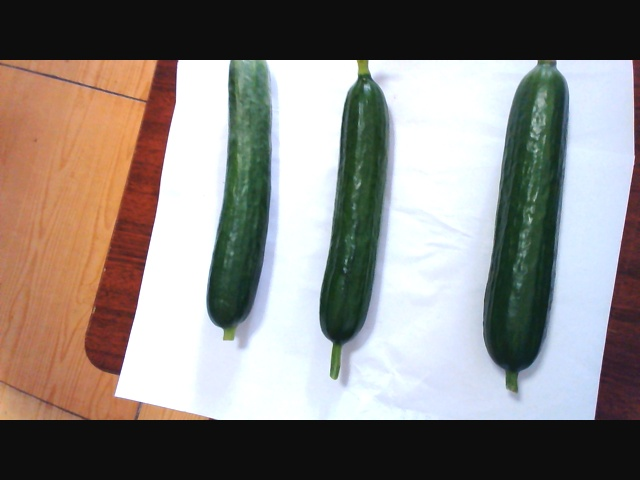cucumber: (474, 57, 568, 397), (309, 57, 394, 382), (208, 55, 281, 347)
